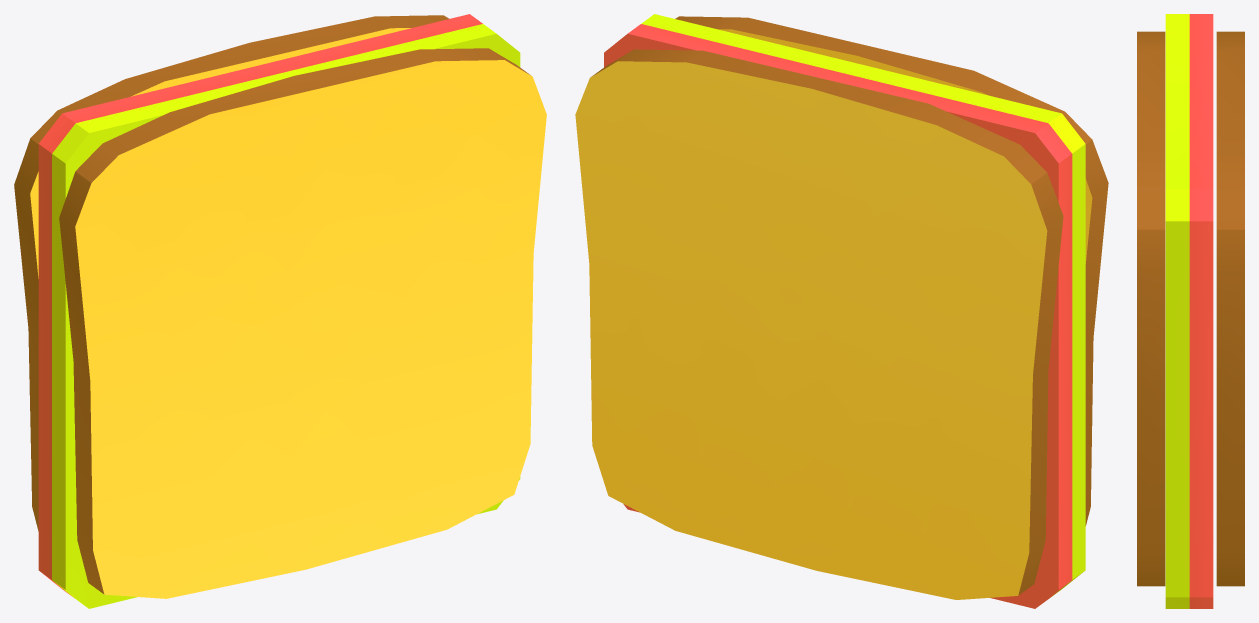
Rendered from brown_sandwitch.glb.
The picture shows the model from 3 angles, left to right: view 1: azimuth 30°, elevation 25°; view 2: azimuth 150°, elevation 25°; view 3: azimuth 270°, elevation 25°; orthographic projection. The views are drawn at different scales.
Parts seen in each view (by area): view 1: Brown_Sandwitch; view 2: Brown_Sandwitch; view 3: Brown_Sandwitch.
Part boxes in pixels (x1,y1,x2,y2): Brown_Sandwitch: (14, 14, 546, 608); Brown_Sandwitch: (575, 14, 1108, 608); Brown_Sandwitch: (1137, 14, 1244, 608).
Bounding box in the file's own units: 0.4953 × 0.4846 × 0.1113.
Materials: 1 (1 with a texture image).
